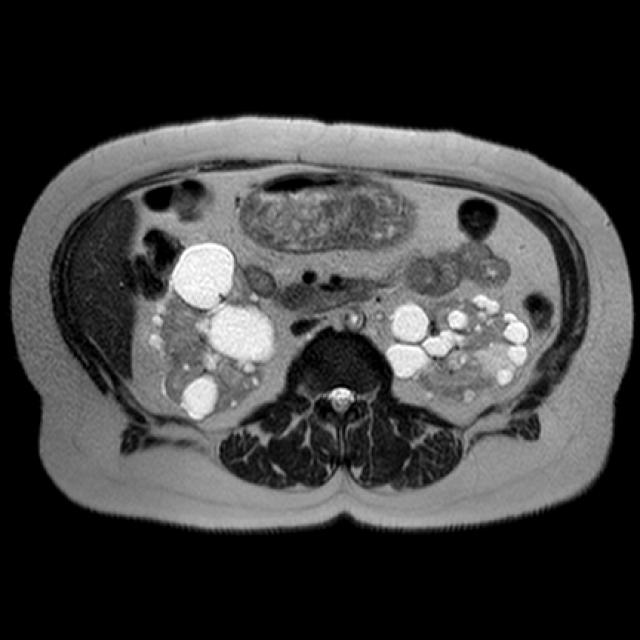sag: (151, 244, 276, 418)
sol: (388, 295, 533, 402)
